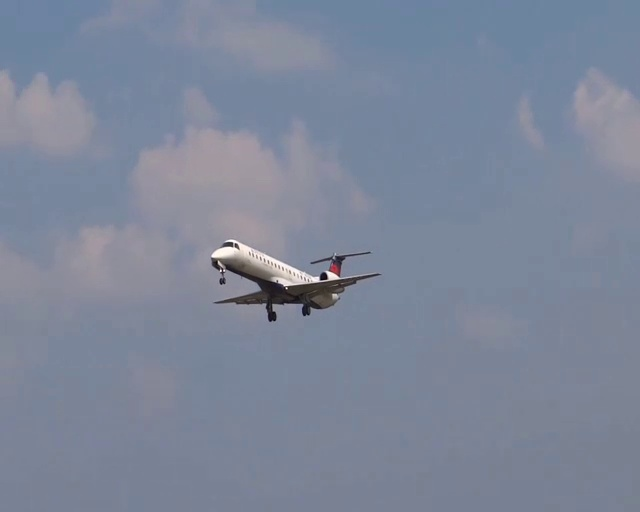AIRPLANE: (208, 238, 380, 321)
